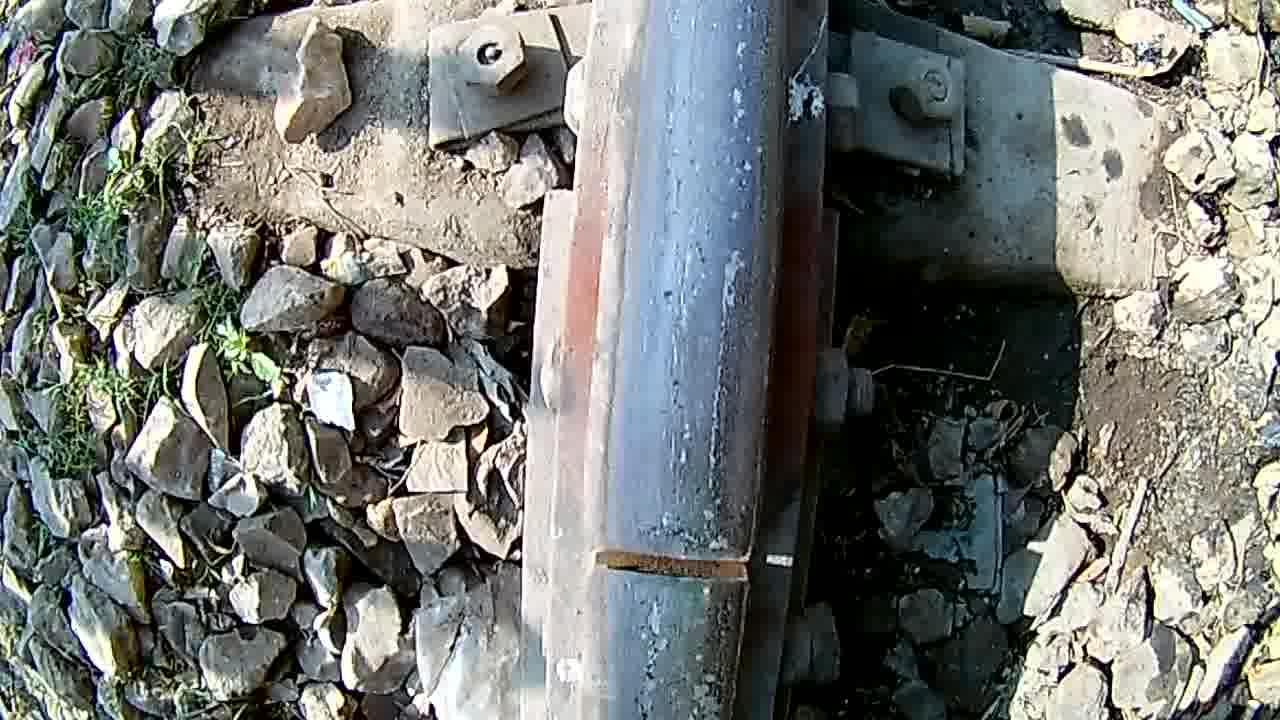crack: (621, 3, 790, 537)
